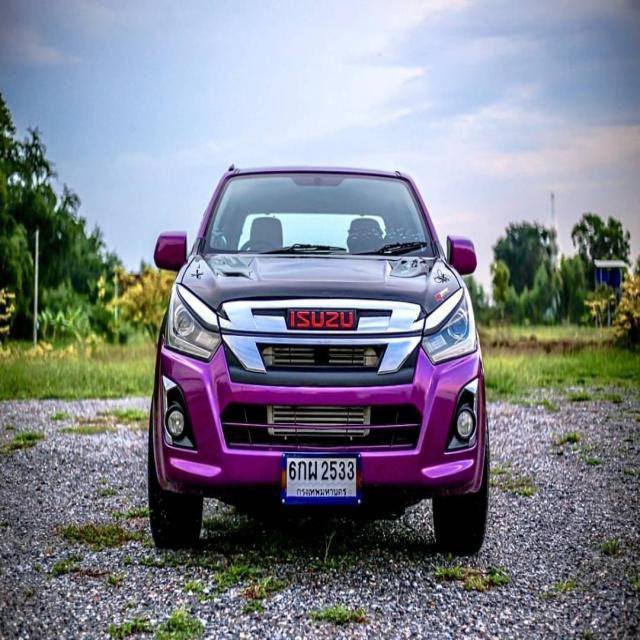license_plate: (279, 445, 364, 510)
